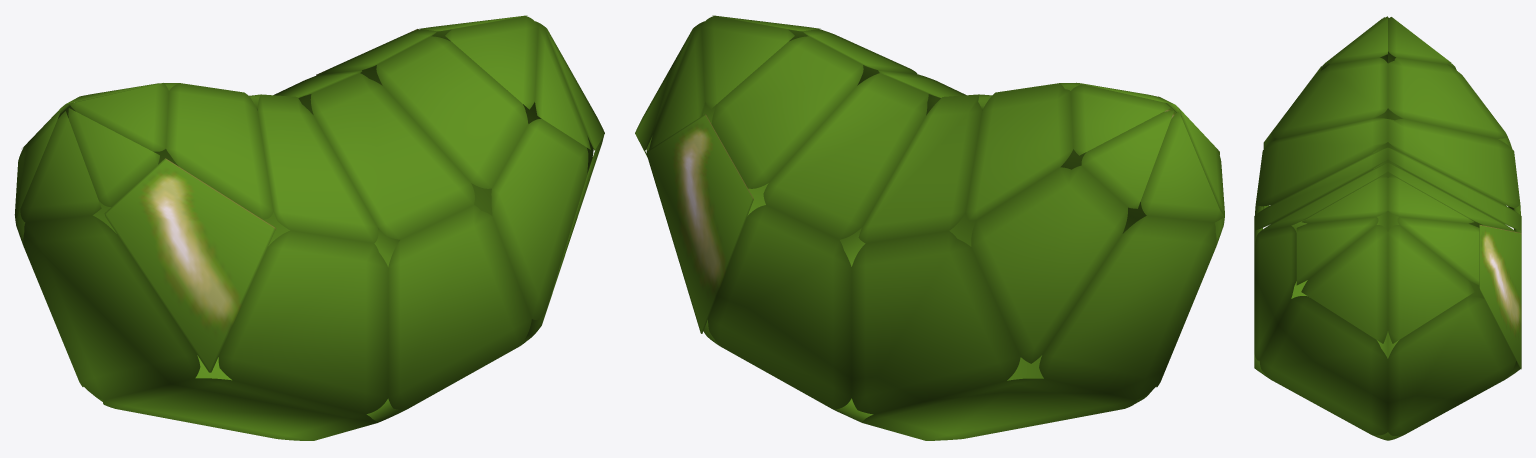
3 renders of one model, left to right at view 1: azimuth 30°, elevation 25°; view 2: azimuth 150°, elevation 25°; view 3: azimuth 270°, elevation 25°, orthographic. The views are drawn at different scales.
Visible parts, largest first — view 1: T1L8M008_36; view 2: T1L8M008_36; view 3: T1L8M008_36.
Boxes of the visible parts, left/top/right/bottom form: T1L8M008_36: left=14, top=15, right=604, bottom=440; T1L8M008_36: left=635, top=15, right=1224, bottom=440; T1L8M008_36: left=1254, top=16, right=1521, bottom=440.
Size of the model in its own units: 0.5615 by 0.3604 by 0.2793.
1 material, 1 textured.
